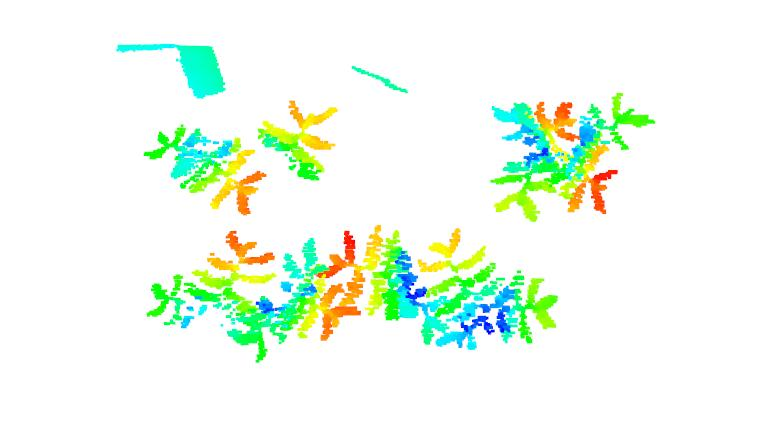chickpea: (490, 88, 654, 218), (138, 231, 271, 361), (421, 228, 561, 351), (141, 127, 268, 224), (272, 220, 362, 348), (314, 226, 426, 319), (262, 99, 340, 181)
